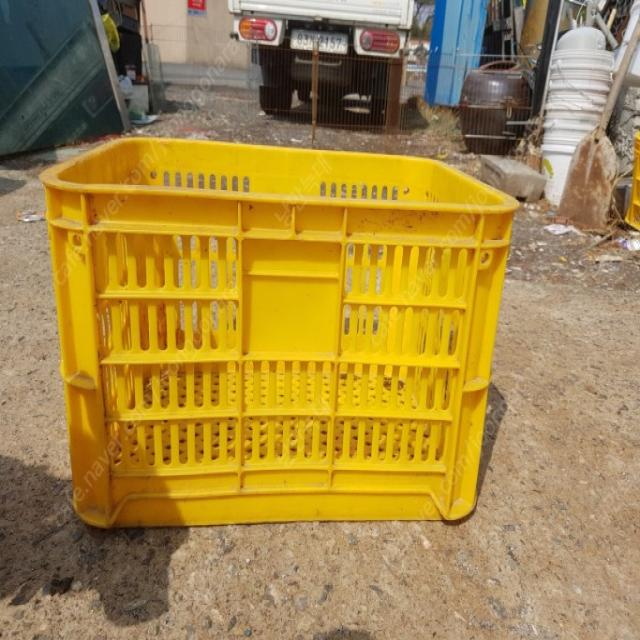basket: (41, 132, 524, 528)
